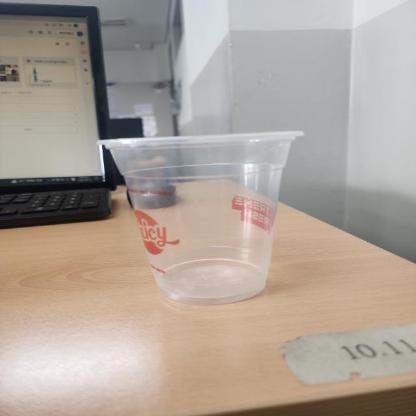Plastic Cup: (93, 130, 306, 302)
